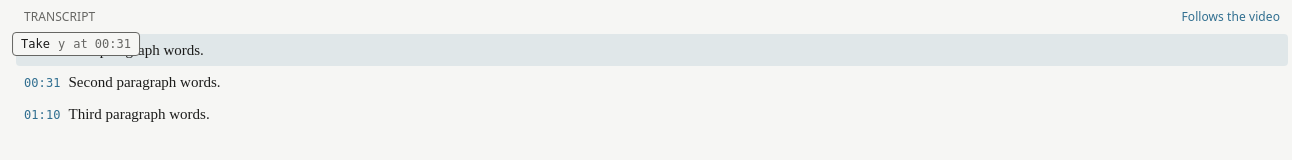
Test: the transcript's take › #791 I8 a selection made backwards takes the time of the paragraph it starts in
The image size is (1292, 160).
Click the button with aria-label "Take the passage": coordinates (76, 44) top-left (12, 32), bottom-right (140, 56)
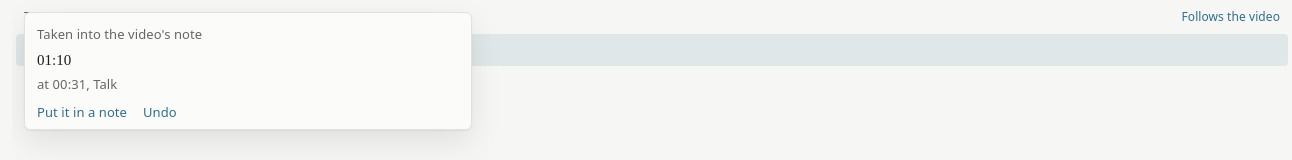
Result: the text "Taken into the video's note" is shown at top-left (37, 25), bottom-right (202, 43)
